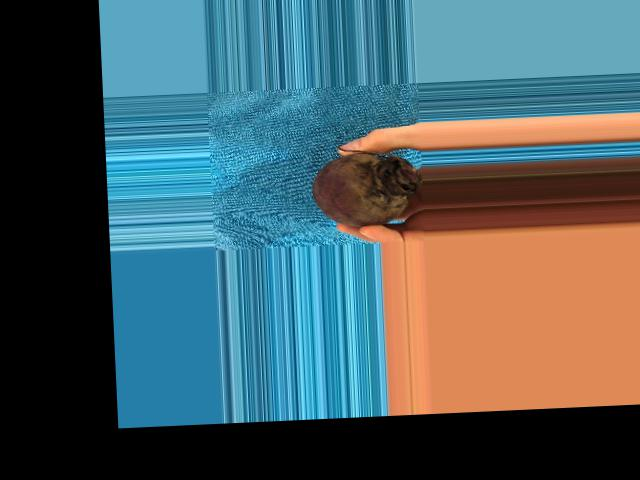beet: (310, 141, 422, 228)
